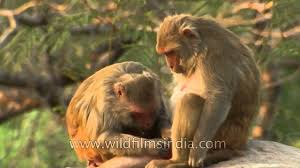monkey: (138, 6, 282, 155), (57, 39, 161, 148)
